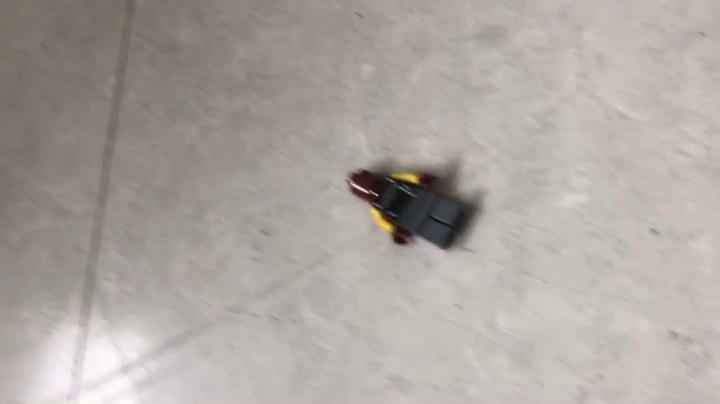people: (344, 167, 473, 252)
